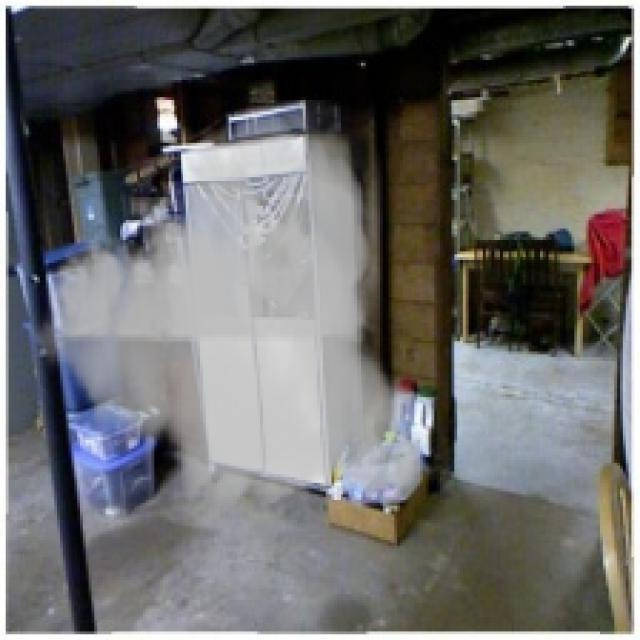Smoke: (23, 100, 446, 523)
